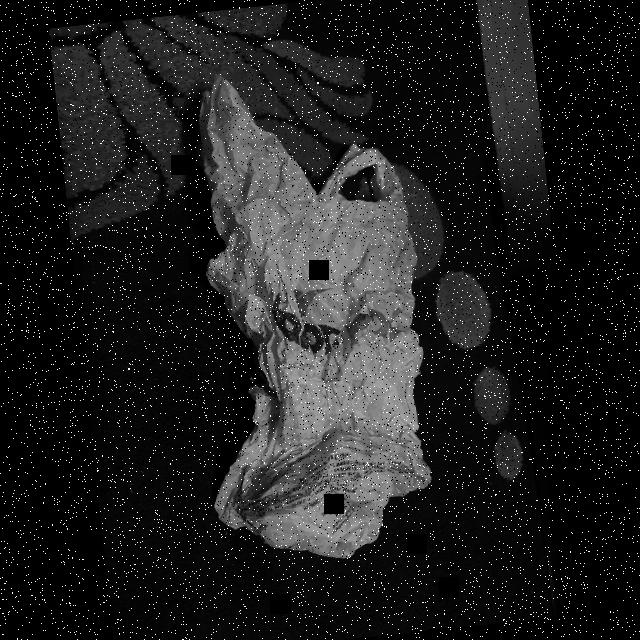plastic_bag: (160, 53, 456, 586)
